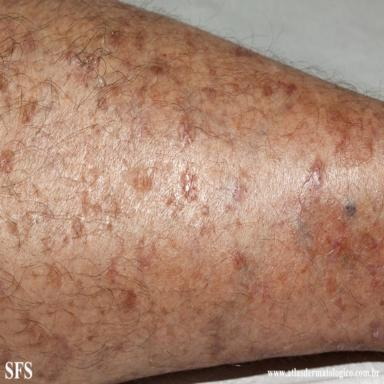Porokeratosis: (297, 159, 344, 258), (329, 110, 374, 168), (123, 165, 156, 192), (181, 167, 198, 201), (21, 97, 40, 126), (178, 116, 196, 146), (0, 150, 14, 173), (121, 289, 137, 307), (72, 217, 85, 238), (233, 251, 246, 271), (97, 95, 108, 111), (209, 87, 216, 103), (202, 205, 209, 216)
